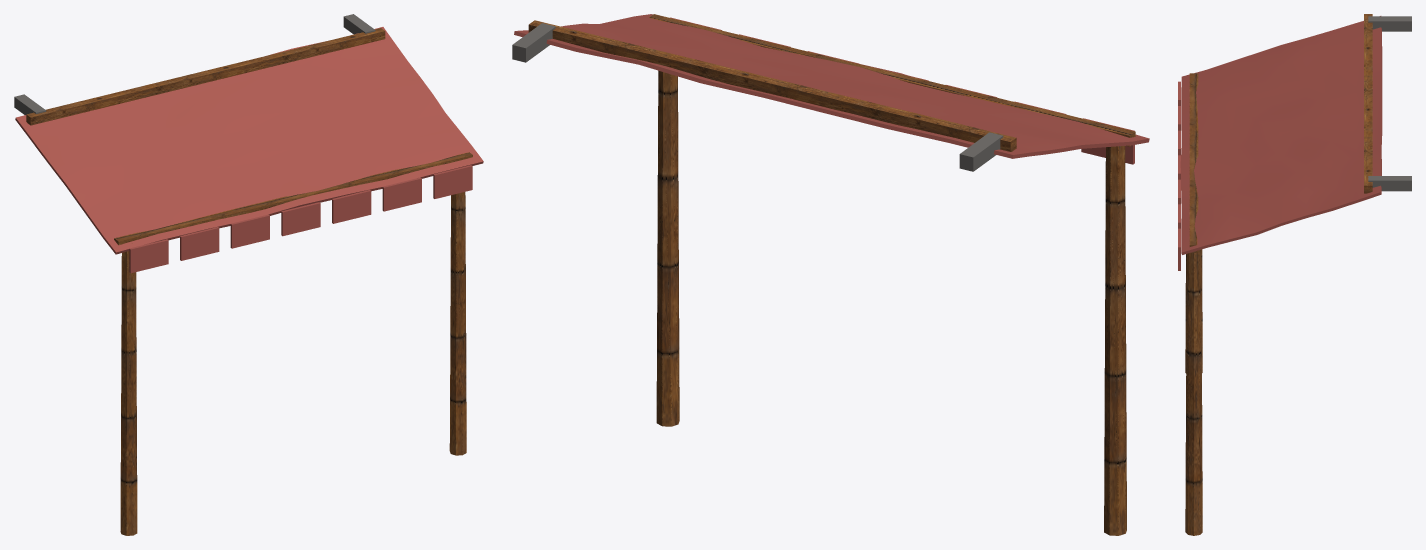
The model's file is cloth-awning-v01.glb.
The picture shows the model from 3 angles, left to right: view 1: azimuth 30°, elevation 25°; view 2: azimuth 150°, elevation 25°; view 3: azimuth 270°, elevation 25°; orthographic projection. The views are drawn at different scales.
Parts seen in each view (by area): view 1: cloth-awning; view 2: cloth-awning; view 3: cloth-awning.
Boxes of the visible parts, left/top/right/bottom form: cloth-awning: left=14, top=14, right=483, bottom=535; cloth-awning: left=512, top=14, right=1149, bottom=535; cloth-awning: left=1178, top=14, right=1411, bottom=535.
Bounding box in the file's own units: 2.9 × 2.69 × 1.61.
Materials: 3 (1 with a texture image).
